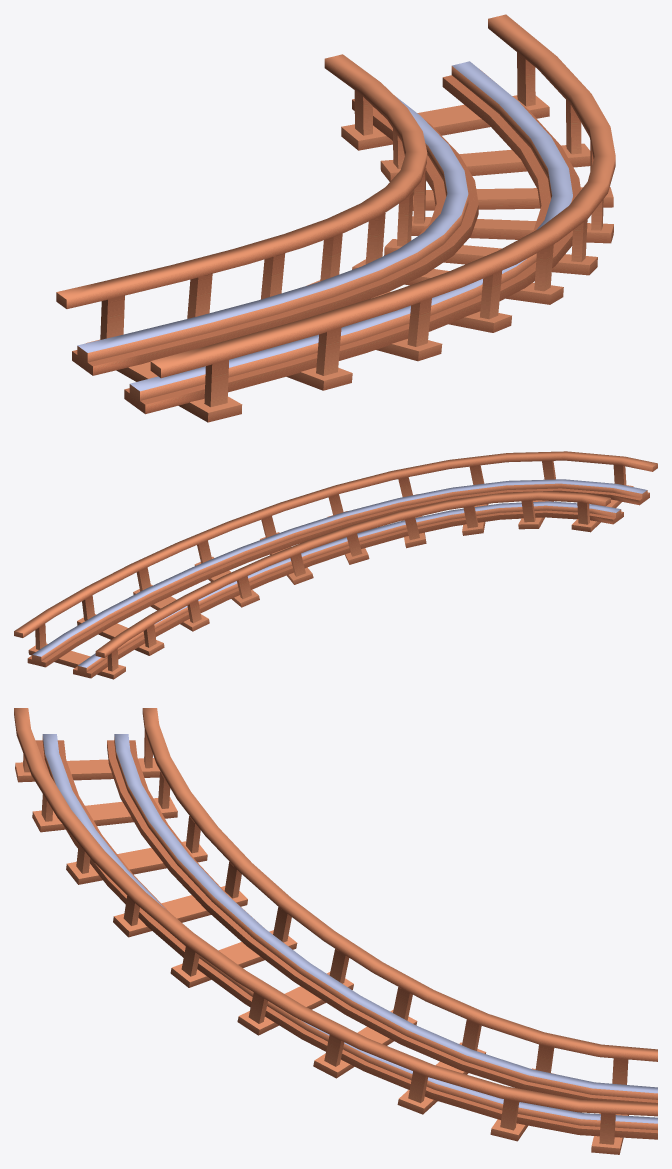
File: coaster-wood-corner-large-ramp.glb
3 views of the same model, one above another, from view 1: azimuth 30°, elevation 25°; view 2: azimuth 150°, elevation 25°; view 3: azimuth 270°, elevation 25° (orthographic). The views are drawn at different scales.
Visible parts, largest first — view 1: coaster-wood-corner-large-ramp; view 2: coaster-wood-corner-large-ramp; view 3: coaster-wood-corner-large-ramp.
Part boxes in pixels (x1,y1,x2,y2): coaster-wood-corner-large-ramp: (56, 14, 615, 422); coaster-wood-corner-large-ramp: (14, 451, 657, 679); coaster-wood-corner-large-ramp: (14, 708, 657, 1154).
Size of the model in its own units: 13.5 by 4.06 by 13.5.
Materials: 1 (1 with a texture image).
